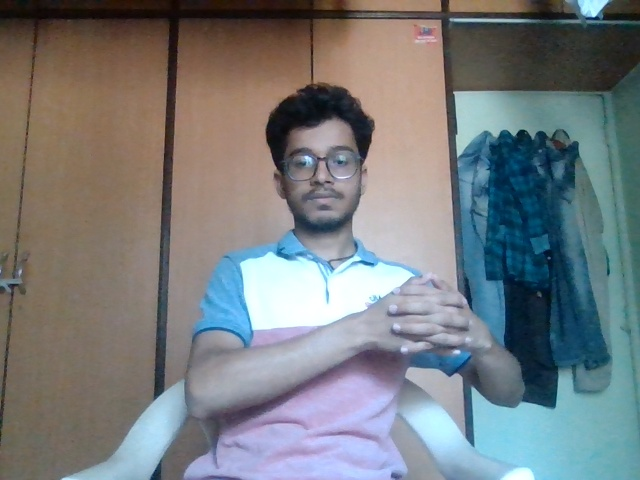good: (373, 262, 486, 385)
